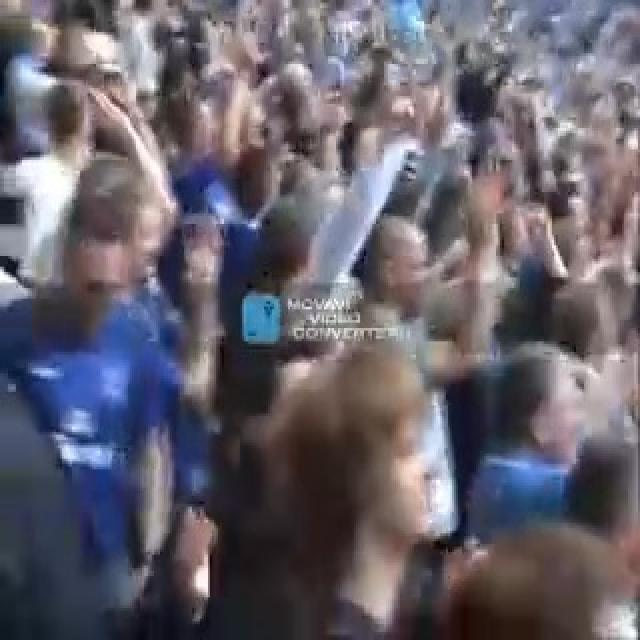non-voilence: (0, 0, 638, 637), (0, 152, 186, 637)
